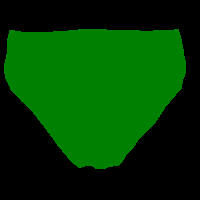mutande: (4, 28, 186, 169)
